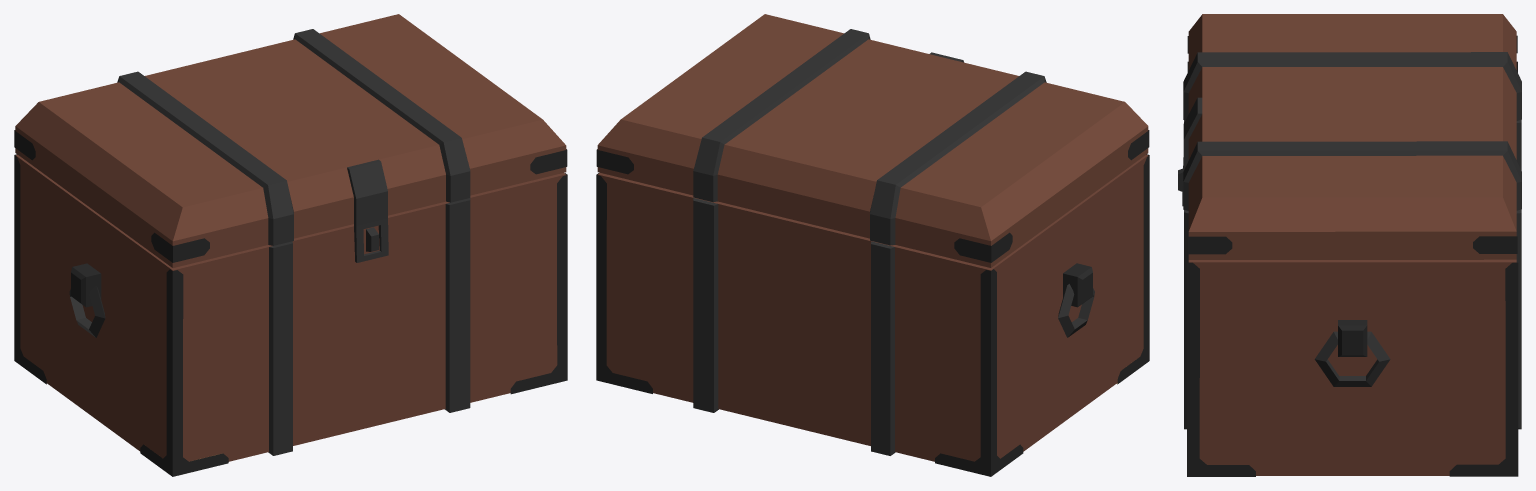
The model's file is chest.fbx.
3 renders of one model, left to right at view 1: azimuth 30°, elevation 25°; view 2: azimuth 150°, elevation 25°; view 3: azimuth 270°, elevation 25°, orthographic. The views are drawn at different scales.
Parts seen in each view (by area): view 1: chest_big, chest_lid_big; view 2: chest_big, chest_lid_big; view 3: chest_lid_big, chest_big.
Part boxes in pixels (x1=…): chest_big: x1=14, y1=154, x2=567, y2=476; chest_lid_big: x1=14, y1=14, x2=567, y2=267; chest_big: x1=596, y1=154, x2=1149, y2=476; chest_lid_big: x1=596, y1=14, x2=1149, y2=267; chest_lid_big: x1=1182, y1=14, x2=1521, y2=259; chest_big: x1=1178, y1=61, x2=1521, y2=476.
Size of the model in its own units: 78.92 by 47.19 by 53.02.
